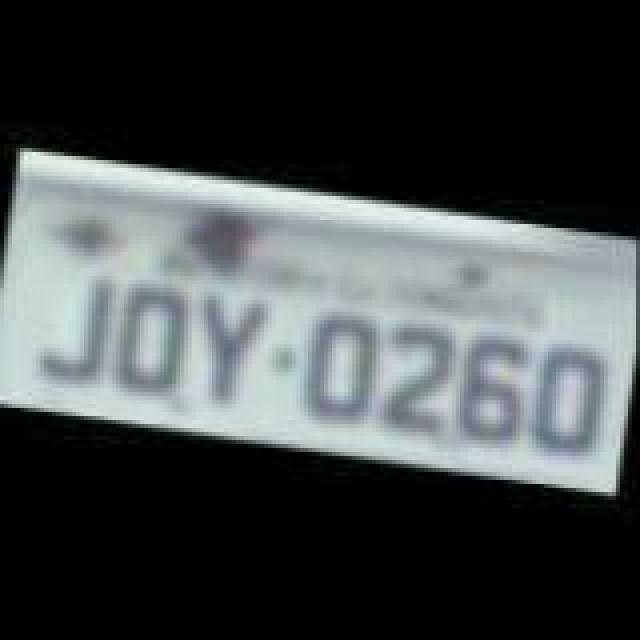2: (372, 320, 464, 440)
6: (444, 330, 540, 450)
J: (26, 264, 122, 384)
O: (296, 310, 388, 430), (524, 338, 612, 462), (110, 284, 198, 400)
Y: (184, 292, 276, 412)
